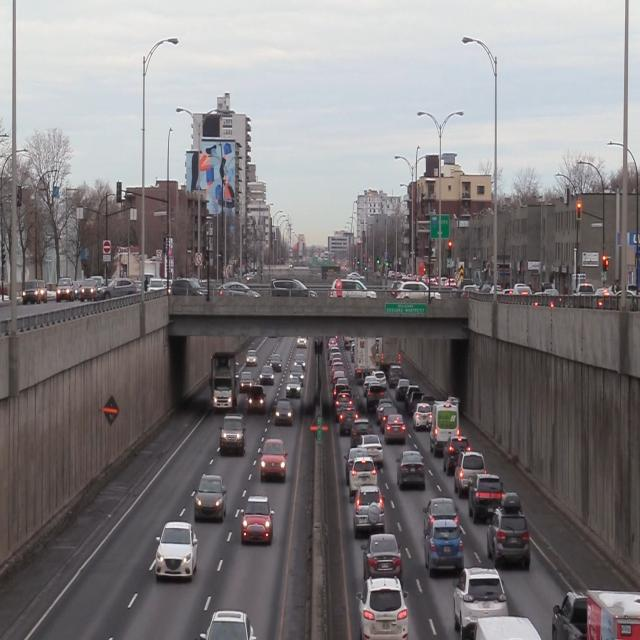Car: (450, 568, 510, 636), (357, 576, 412, 640), (487, 492, 532, 568), (156, 522, 199, 582), (426, 521, 466, 573), (361, 536, 404, 583), (240, 493, 276, 547), (468, 472, 506, 521), (353, 486, 387, 538), (212, 352, 241, 411), (195, 473, 228, 523), (430, 401, 460, 450), (349, 456, 380, 499), (261, 436, 288, 482), (397, 451, 426, 492), (425, 497, 463, 528), (457, 451, 485, 492), (220, 414, 247, 456), (274, 397, 294, 426), (248, 384, 266, 414)
